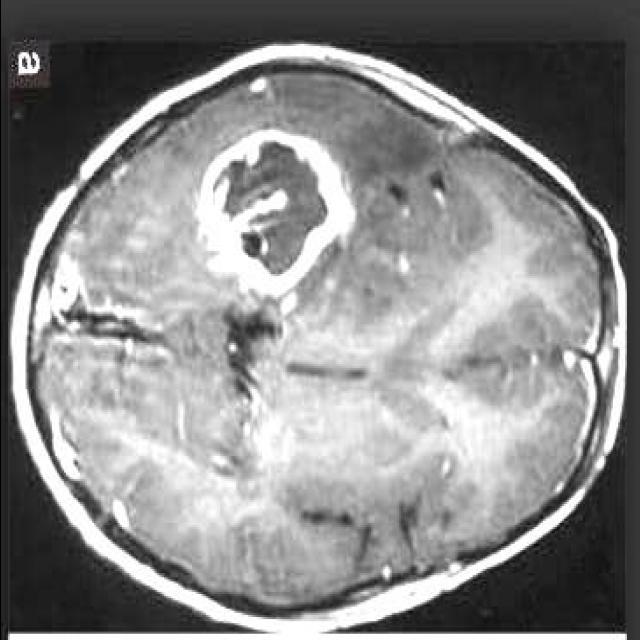tumor: (191, 130, 352, 310)
